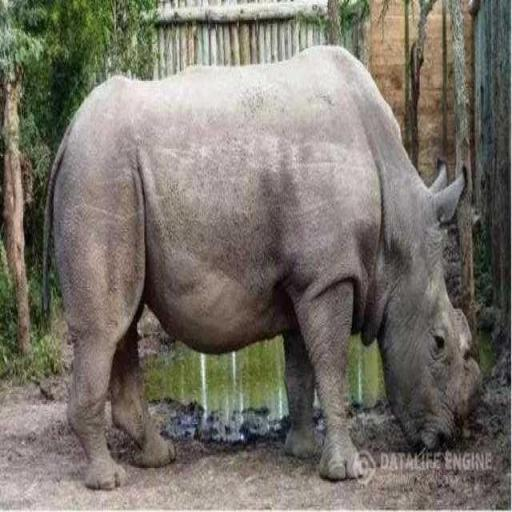Rhino: (40, 42, 482, 490)
